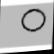no answer: (18, 4, 53, 36)
